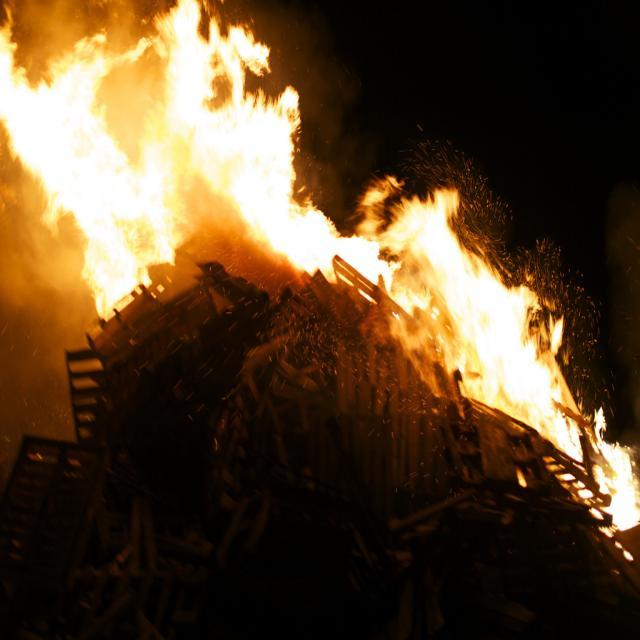Fire: (181, 112, 291, 218), (18, 76, 100, 178), (467, 278, 522, 390), (172, 2, 201, 102), (90, 248, 136, 295)
